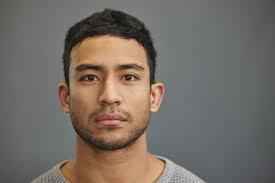person: (58, 5, 167, 148)
